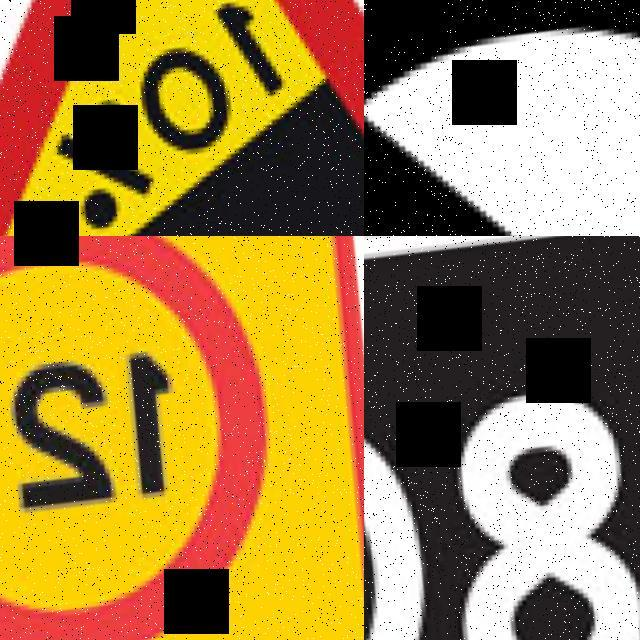100: (364, 236, 640, 640)
82: (0, 236, 364, 640)
End of all restrictions: (364, 0, 640, 236)
Steep downhill: (0, 0, 364, 236)
